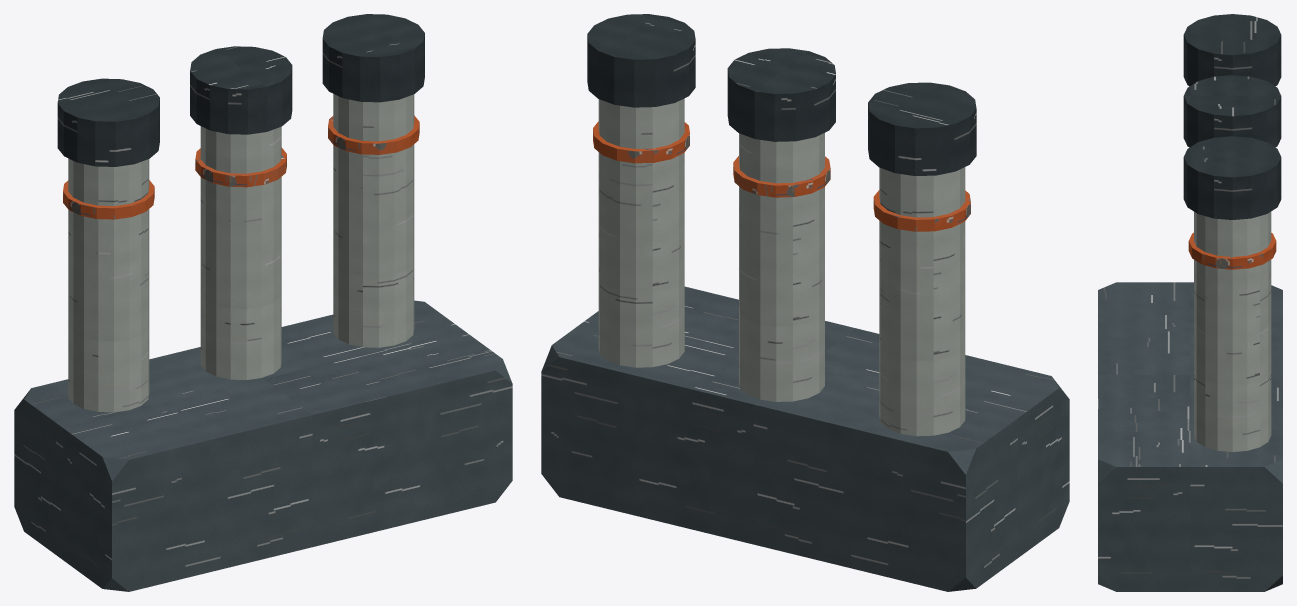
The model's file is field_kit_4.glb.
3 renders of one model, left to right at view 1: azimuth 30°, elevation 25°; view 2: azimuth 150°, elevation 25°; view 3: azimuth 270°, elevation 25°, orthographic. The views are drawn at different scales.
Parts seen in each view (by area): view 1: sample_sleeve_tray_dark_alloy, sample_tube_1_satin_steel, sample_tube_2_satin_steel, sample_tube_0_satin_steel, sample_cap_1_graphite, sample_cap_2_graphite, sample_cap_0_graphite, sample_colour_band_0_orange, sample_colour_band_1_orange, sample_colour_band_2_orange; view 2: sample_sleeve_tray_dark_alloy, sample_tube_0_satin_steel, sample_tube_2_satin_steel, sample_tube_1_satin_steel, sample_cap_1_graphite, sample_cap_2_graphite, sample_cap_0_graphite, sample_colour_band_0_orange, sample_colour_band_1_orange, sample_colour_band_2_orange; view 3: sample_sleeve_tray_dark_alloy, sample_tube_2_satin_steel, sample_cap_2_graphite, sample_cap_1_graphite, sample_cap_0_graphite, sample_colour_band_2_orange.
Part boxes in pixels (left/top/right/bottom): sample_sleeve_tray_dark_alloy: left=14, top=300, right=512, bottom=591; sample_tube_1_satin_steel: left=200, top=126, right=281, bottom=379; sample_tube_2_satin_steel: left=333, top=94, right=414, bottom=347; sample_tube_0_satin_steel: left=68, top=158, right=149, bottom=412; sample_cap_1_graphite: left=190, top=46, right=292, bottom=134; sample_cap_2_graphite: left=322, top=14, right=424, bottom=102; sample_cap_0_graphite: left=57, top=78, right=159, bottom=166; sample_colour_band_0_orange: left=63, top=180, right=154, bottom=219; sample_colour_band_1_orange: left=195, top=147, right=286, bottom=187; sample_colour_band_2_orange: left=328, top=115, right=419, bottom=154; sample_sleeve_tray_dark_alloy: left=541, top=286, right=1069, bottom=591; sample_tube_0_satin_steel: left=879, top=167, right=965, bottom=436; sample_tube_2_satin_steel: left=598, top=98, right=684, bottom=367; sample_tube_1_satin_steel: left=739, top=133, right=824, bottom=401; sample_cap_1_graphite: left=727, top=48, right=835, bottom=141; sample_cap_2_graphite: left=587, top=14, right=695, bottom=107; sample_cap_0_graphite: left=868, top=82, right=976, bottom=175; sample_colour_band_0_orange: left=873, top=190, right=970, bottom=231; sample_colour_band_1_orange: left=733, top=156, right=830, bottom=197; sample_colour_band_2_orange: left=593, top=121, right=689, bottom=163; sample_sleeve_tray_dark_alloy: left=1098, top=282, right=1282, bottom=591; sample_tube_2_satin_steel: left=1194, top=211, right=1271, bottom=451; sample_cap_2_graphite: left=1183, top=136, right=1281, bottom=219; sample_cap_1_graphite: left=1183, top=75, right=1281, bottom=147; sample_cap_0_graphite: left=1183, top=14, right=1281, bottom=86; sample_colour_band_2_orange: left=1188, top=232, right=1276, bottom=269.
Bounding box in the file's own units: 0.26 × 0.265 × 0.11.
Materials: 4 (4 with a texture image).
